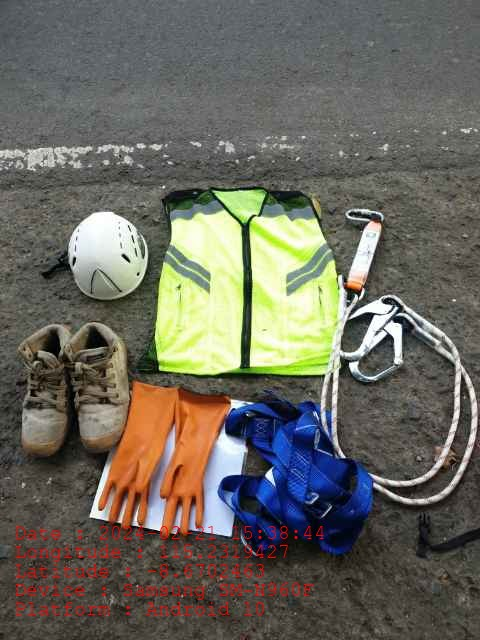HELM: (68, 212, 149, 299)
ROMPI: (159, 188, 338, 374)
SARUNG TANGAN: (131, 381, 229, 535)
SEPATU: (19, 324, 123, 453)
TAMBANG_SLING: (340, 209, 476, 505)
